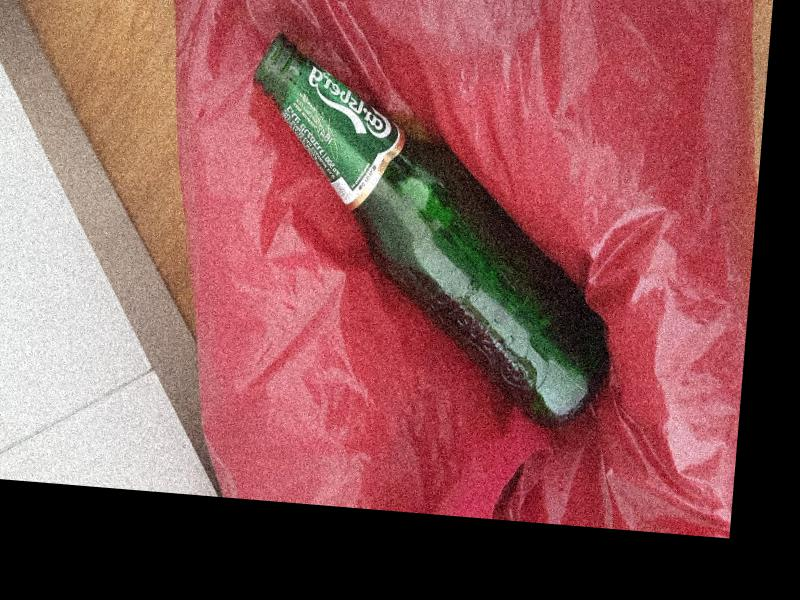Beer: (228, 30, 631, 427)
